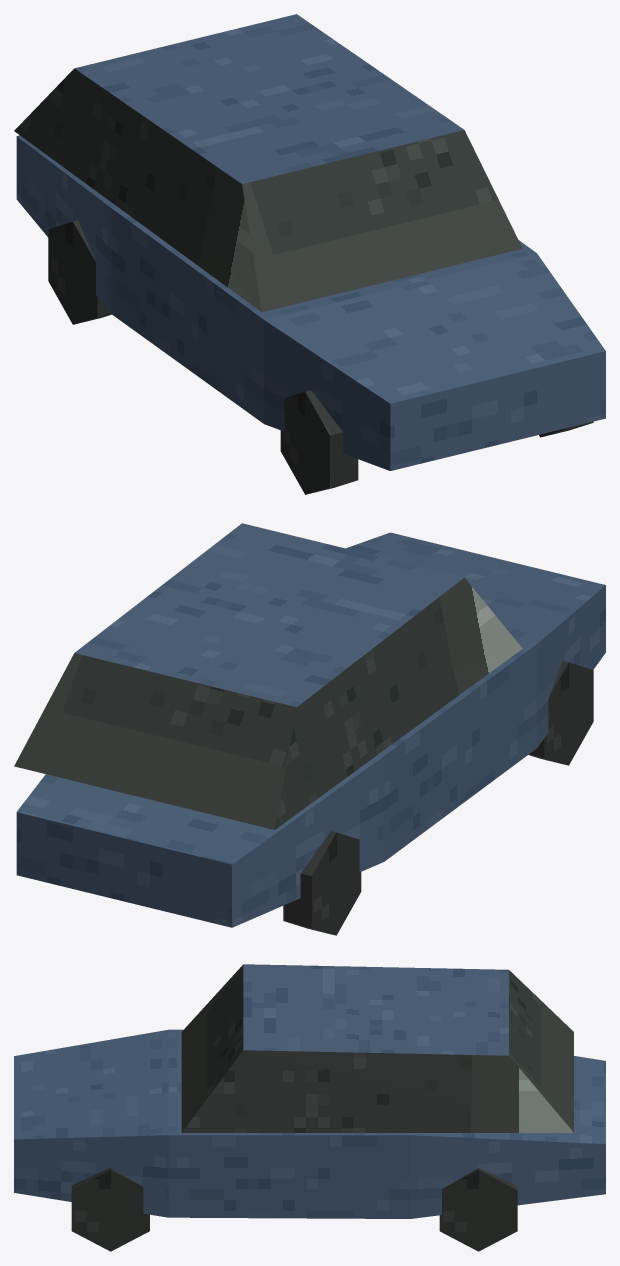
The model's file is pinelatch-1993-far.glb.
3 views of the same model, one above another, from view 1: azimuth 30°, elevation 25°; view 2: azimuth 150°, elevation 25°; view 3: azimuth 270°, elevation 25° (orthographic). The views are drawn at different scales.
Visible parts, largest first — view 1: body, Distance tyre.001, Distance tyre.003; view 2: body, Distance tyre.003, Distance tyre.001; view 3: body, Distance tyre.002, Distance tyre.
Boxes of the visible parts, x1,y1,x2,y2 form: body: (14, 14, 605, 470); Distance tyre.001: (280, 390, 358, 494); Distance tyre.003: (48, 220, 111, 324); body: (14, 523, 605, 927); Distance tyre.003: (283, 831, 361, 935); Distance tyre.001: (528, 661, 593, 765); body: (14, 964, 605, 1218); Distance tyre.002: (439, 1168, 517, 1251); Distance tyre: (71, 1167, 149, 1251).
Bounding box in the file's own units: 1.64 × 1.4 × 3.9.
2 materials, 2 textured.
